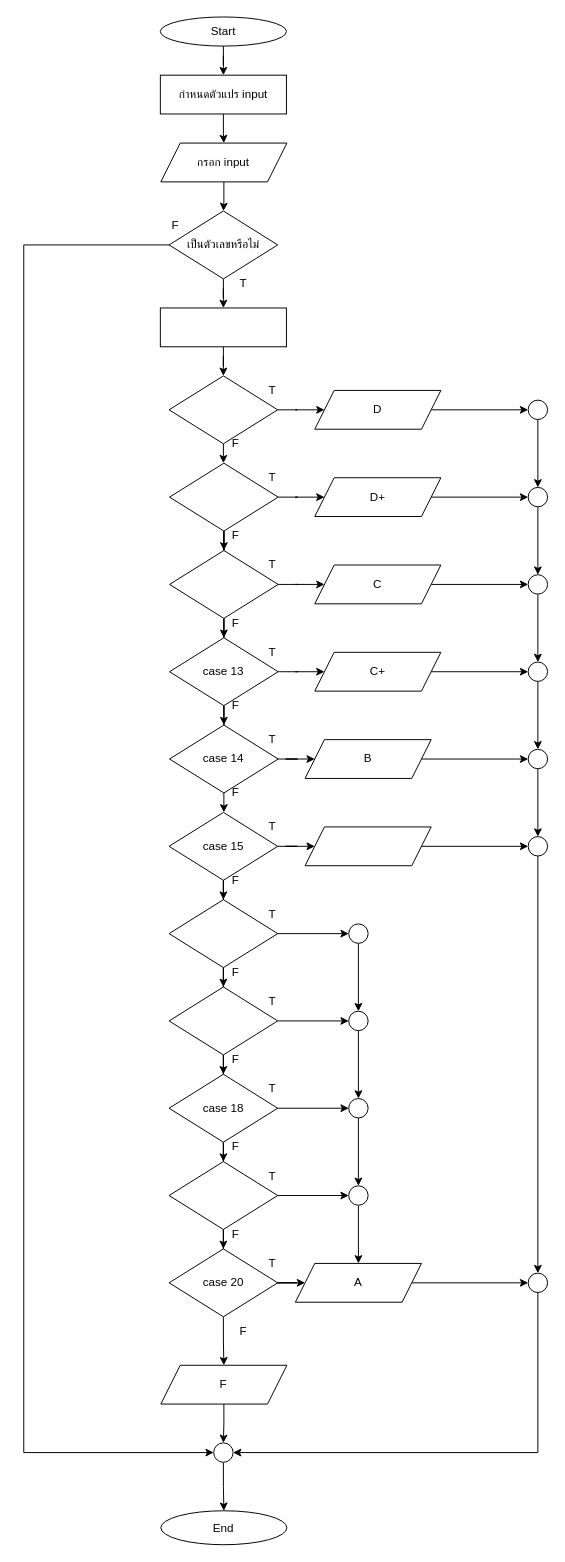
The diagram is 565 pixels wide and 1562 high, and some of its shapes have lost their labels. Each missing label, with the box of its shape:
B+: (304, 826, 431, 866)
case 10: (168, 375, 278, 444)
case 11: (169, 462, 278, 531)
case 12: (169, 550, 278, 618)
case 16: (168, 899, 278, 968)
case 17: (168, 986, 278, 1055)
case 19: (168, 1161, 278, 1229)
input / 5: (159, 307, 286, 347)
